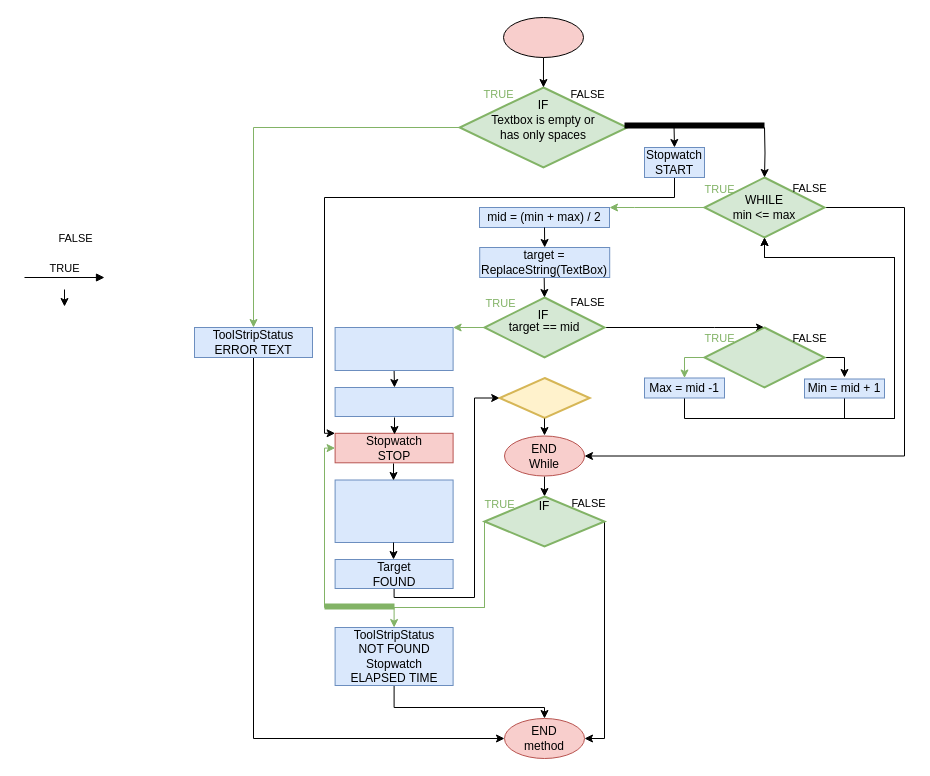
This 930x776 diagram has some shape labels left out. Here are the shapes that lost their labels. From the top down, the box of each, then its label:
(502, 16, 584, 58): START Button Click
(334, 326, 453, 370): ListViewArray CLEAR SELECTION SELECT ITEM
(703, 326, 825, 388): ELSE IF target < 0
(334, 386, 453, 416): Textbox GET VALUES
(498, 376, 590, 418): BREAK
(334, 479, 453, 542): ToolStripStatus FOUND Stopwatch ELAPSED TIME
(483, 495, 605, 547): NOT FOUND
